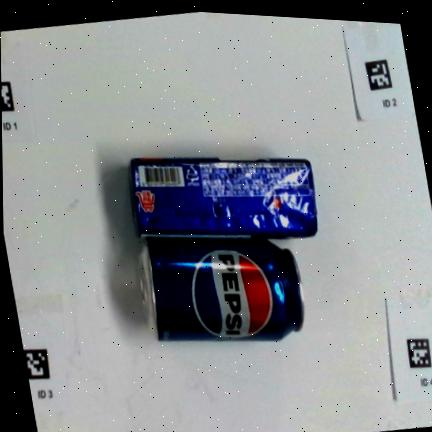can_pepsi: (140, 239, 304, 340)
cracker_ace: (128, 158, 319, 239)
